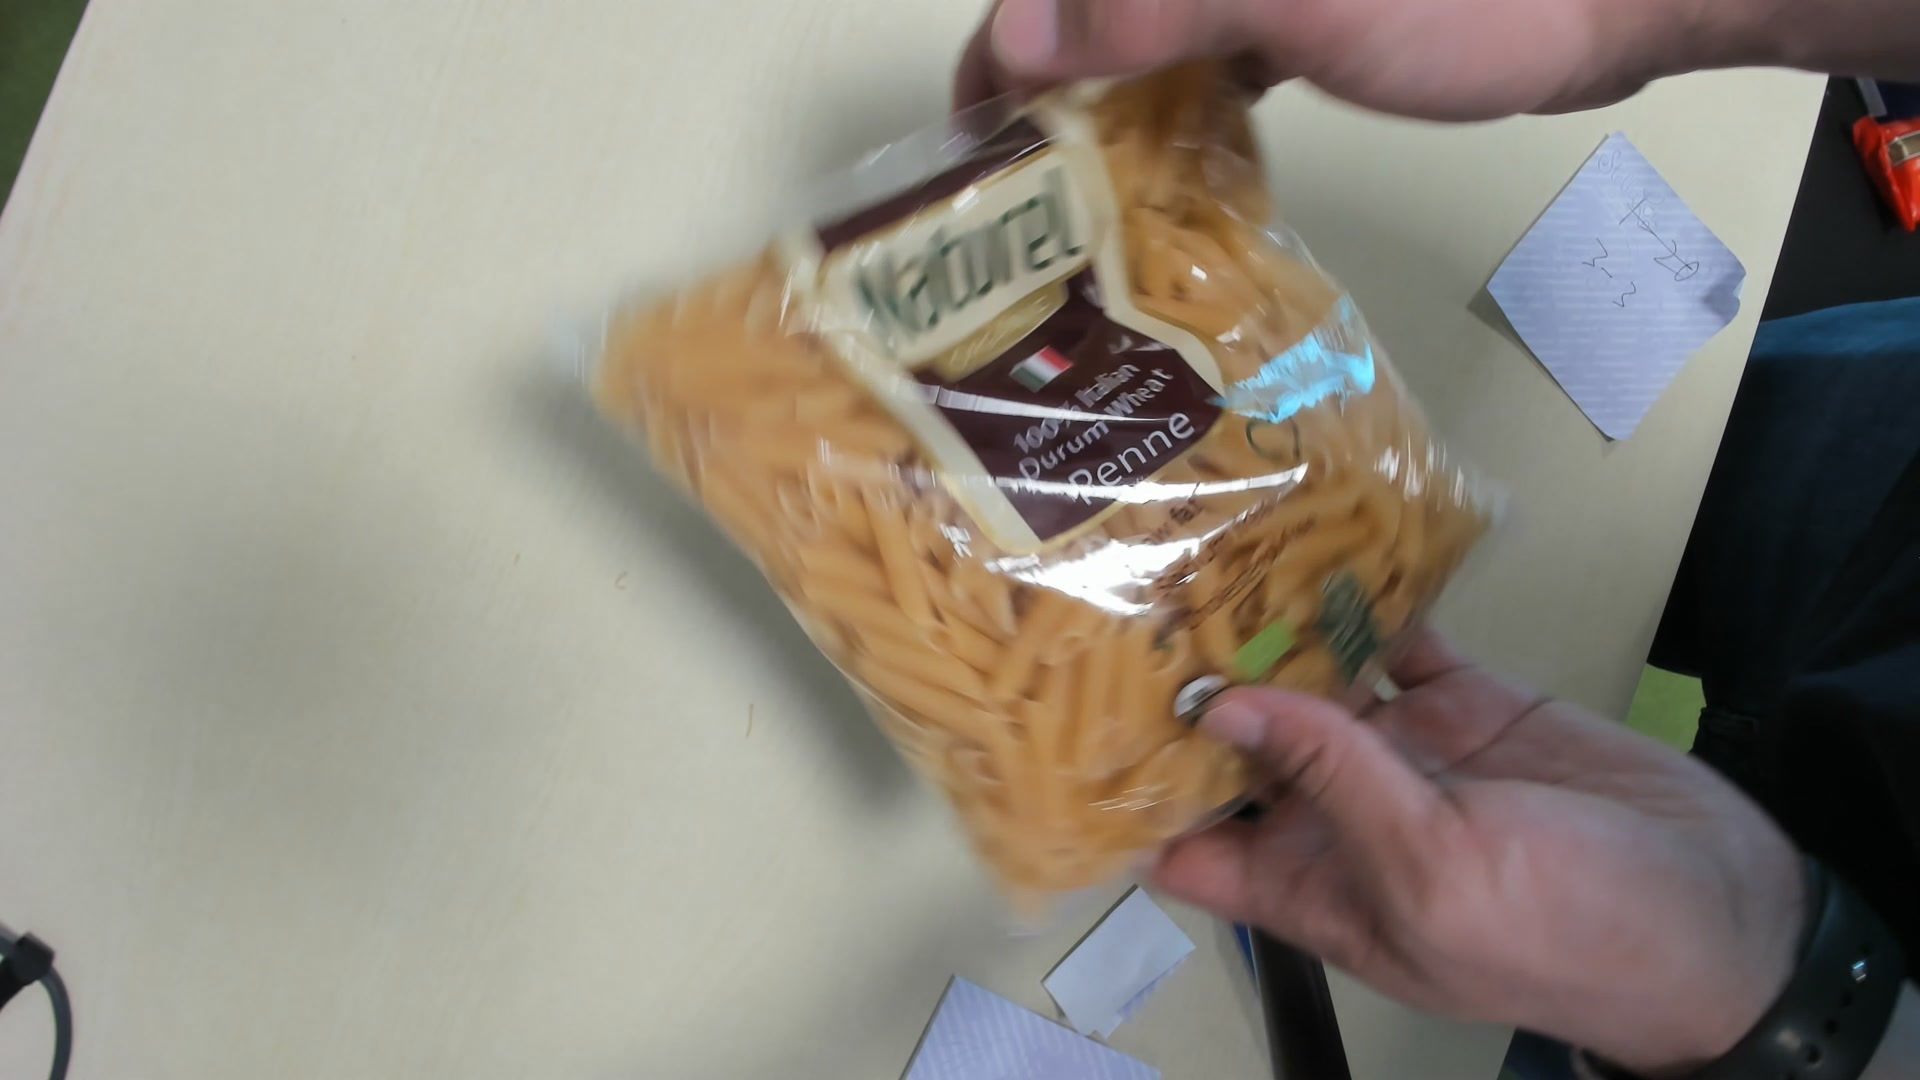Pasta_500-599g_Halal_NonHealthy: (564, 55, 1509, 895)
